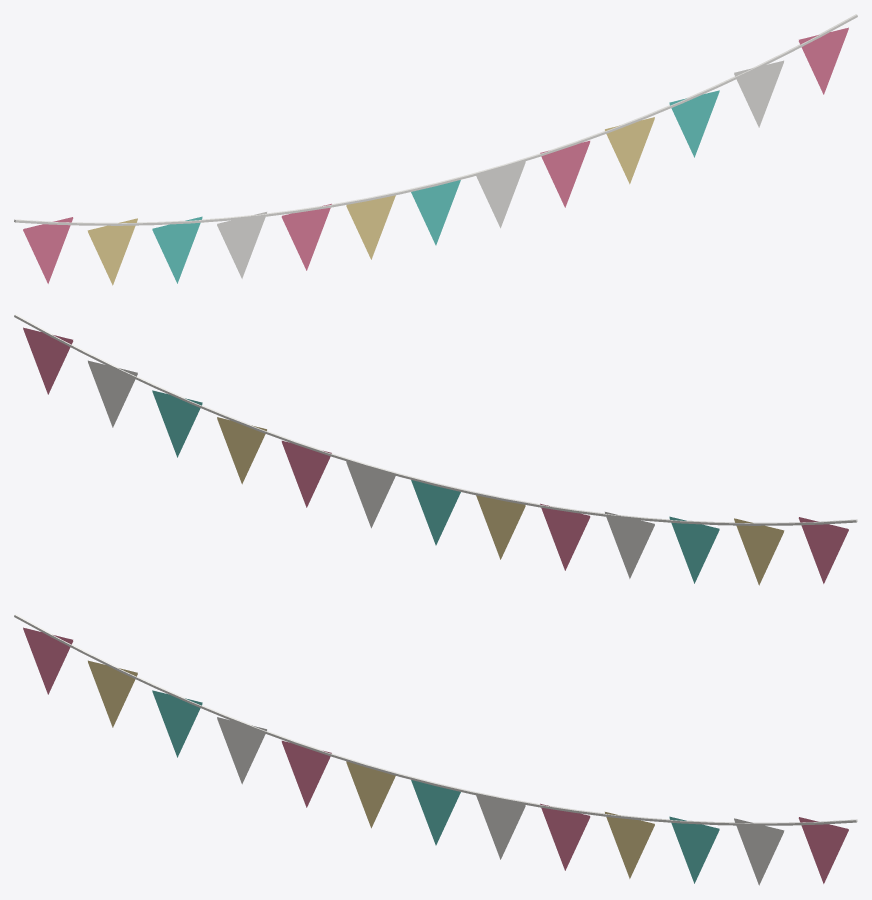
File: Bunting.fbx
3 renders of one model, top to bottom at view 1: azimuth 30°, elevation 25°; view 2: azimuth 150°, elevation 25°; view 3: azimuth 330°, elevation 25°, orthographic.
Parts seen in each view (by area): view 1: Bunting; view 2: Bunting; view 3: Bunting.
Boxes of the visible parts, x1,y1,x2,y2 form: Bunting: [14, 14, 857, 285]; Bunting: [14, 314, 857, 585]; Bunting: [14, 614, 857, 885].
Size of the model in its own units: 8.02 by 1.17 by 0.02.
